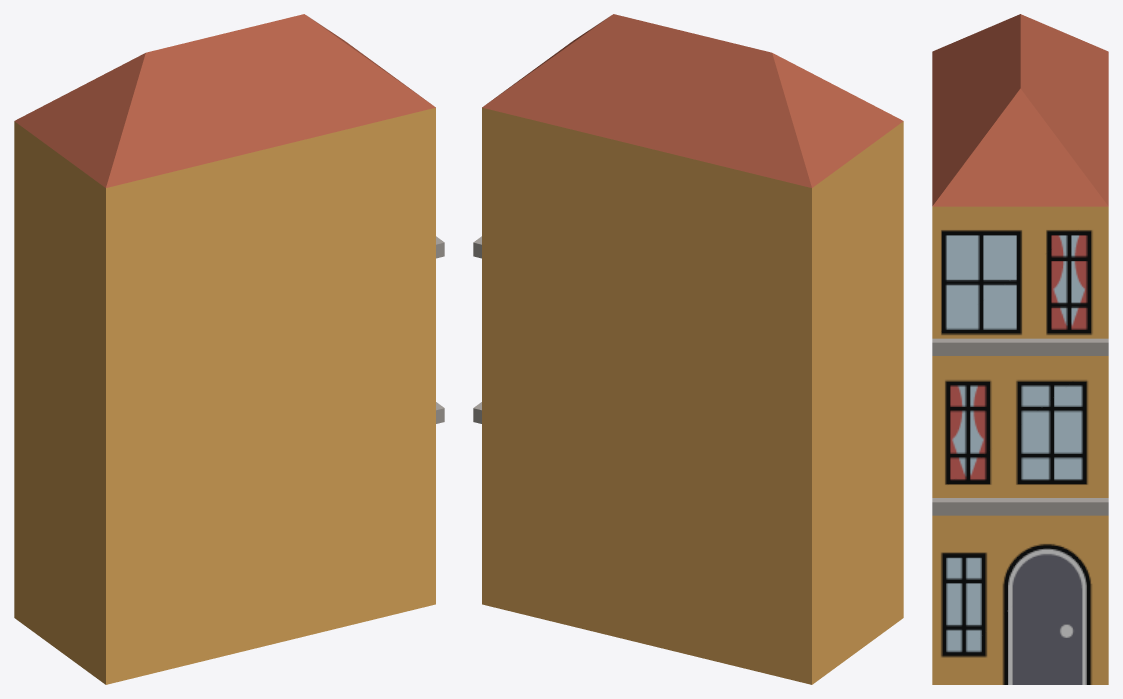
The model's file is StandaardHuis_Var4 - Copy.fbx.
3 views of the same model, side by side, from view 1: azimuth 30°, elevation 25°; view 2: azimuth 150°, elevation 25°; view 3: azimuth 270°, elevation 25° (orthographic). The views are drawn at different scales.
Parts seen in each view (by area): view 1: StandaardHuis_Var4; view 2: StandaardHuis_Var4; view 3: StandaardHuis_Var4.
Part boxes in pixels (x1,y1,x2,y2): StandaardHuis_Var4: [14, 14, 444, 684]; StandaardHuis_Var4: [473, 14, 903, 684]; StandaardHuis_Var4: [932, 14, 1108, 684].
Size of the model in its own units: 82.11 by 134 by 38.49.
1 material, 1 textured.
